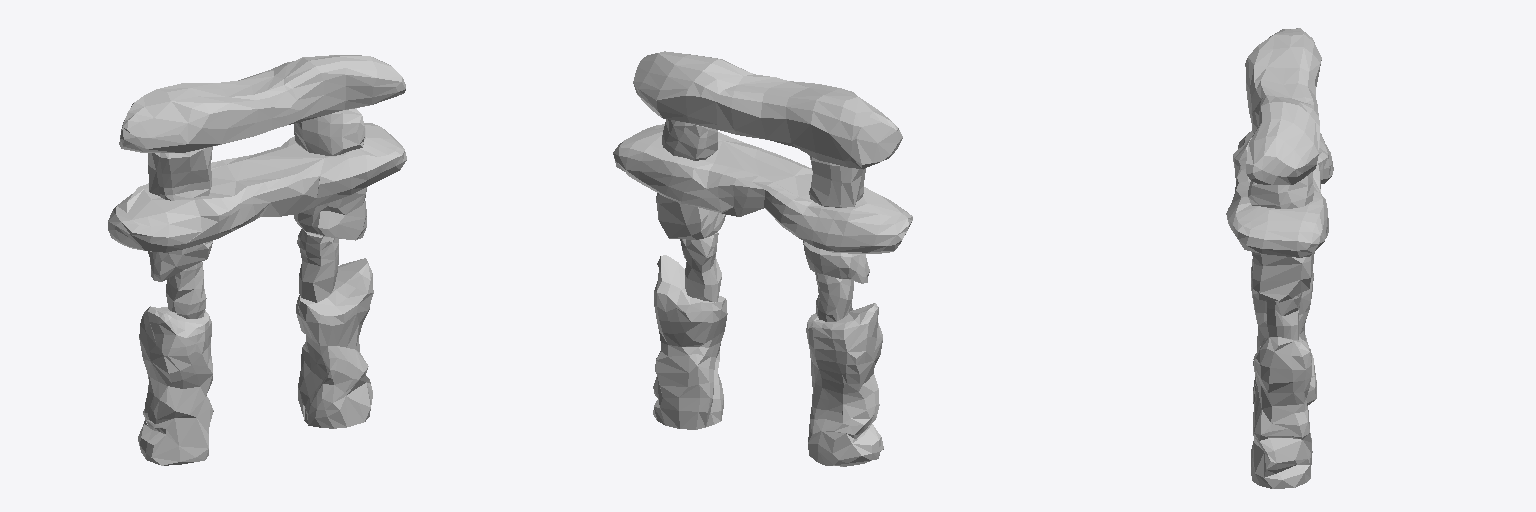
File: Portal_LP.obj
3 views of the same model, side by side, from view 1: azimuth 30°, elevation 25°; view 2: azimuth 150°, elevation 25°; view 3: azimuth 270°, elevation 25° (orthographic).
Parts seen in each view (by area): view 1: Portal_LPZusammengesetzt:001; view 2: Portal_LPZusammengesetzt:001; view 3: Portal_LPZusammengesetzt:001.
Part boxes in pixels (x1,y1,x2,y2): Portal_LPZusammengesetzt:001: (108, 55, 406, 465); Portal_LPZusammengesetzt:001: (613, 51, 912, 466); Portal_LPZusammengesetzt:001: (1226, 28, 1333, 488).
Size of the model in its own units: 23.76 by 29.02 by 7.83.